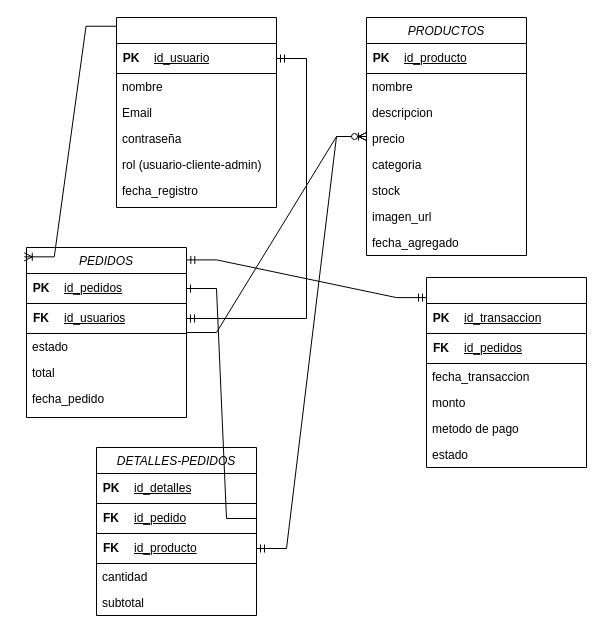
This 605x636 diagram has some shape labels left out. Each missing label, with the box of its shape:
TRANSACCIONES: (426, 276, 586, 468)
USUARIOS: (116, 16, 276, 208)
